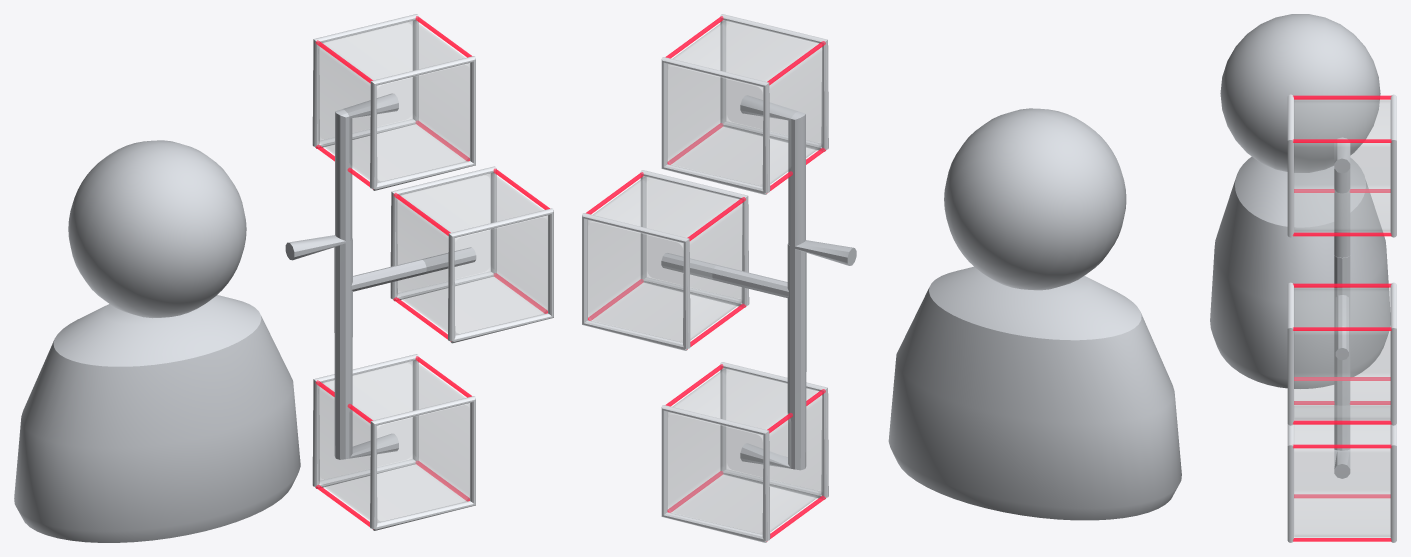
File: 38-user-role.glb
3 renders of one model, left to right at view 1: azimuth 30°, elevation 25°; view 2: azimuth 150°, elevation 25°; view 3: azimuth 270°, elevation 25°, orthographic. The views are drawn at different scales.
Parts seen in each view (by area): view 1: BC satin silver metal, BC clear optical glass, BC polished silver metal, BC neon red glass edge; view 2: BC satin silver metal, BC clear optical glass, BC polished silver metal, BC neon red glass edge; view 3: BC satin silver metal, BC clear optical glass, BC polished silver metal, BC neon red glass edge.
Boxes of the visible parts, box(x1,y1,x2,y2) form: BC satin silver metal: box(14, 93, 476, 542); BC clear optical glass: box(318, 20, 547, 522); BC polished silver metal: box(312, 14, 553, 530); BC neon red glass edge: box(315, 16, 549, 529); BC satin silver metal: box(661, 95, 1181, 520); BC clear optical glass: box(588, 20, 822, 534); BC polished silver metal: box(582, 14, 828, 542); BC neon red glass edge: box(586, 16, 825, 541); BC satin silver metal: box(1210, 14, 1390, 478); BC clear optical glass: box(1294, 100, 1390, 537); BC polished silver metal: box(1287, 94, 1396, 542); BC neon red glass edge: box(1293, 95, 1391, 541).
Size of the model in its own units: 1.95 by 1.6 by 0.6714.
